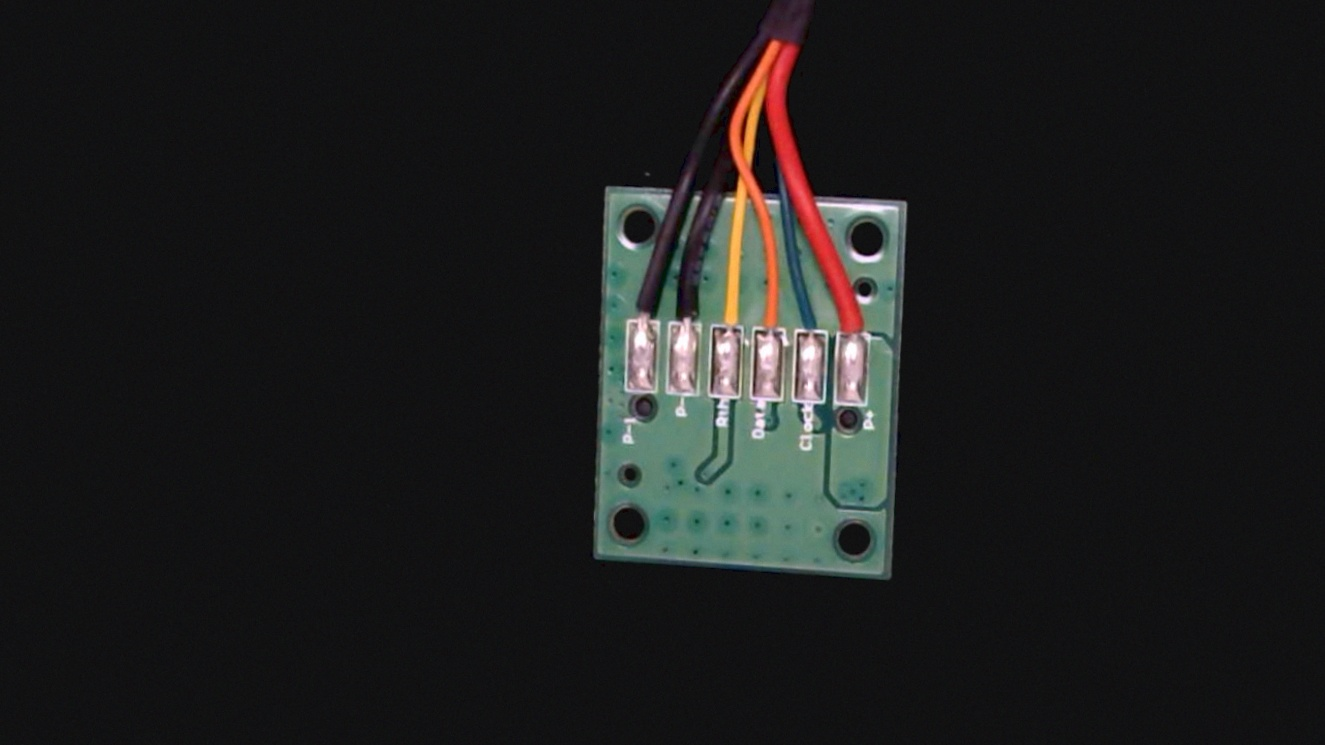Black: (665, 260, 708, 346)
Black1: (622, 262, 664, 342)
Green: (796, 287, 831, 357)
Orange: (751, 265, 791, 348)
Red: (832, 273, 875, 357)
Yellow: (707, 260, 751, 347)
